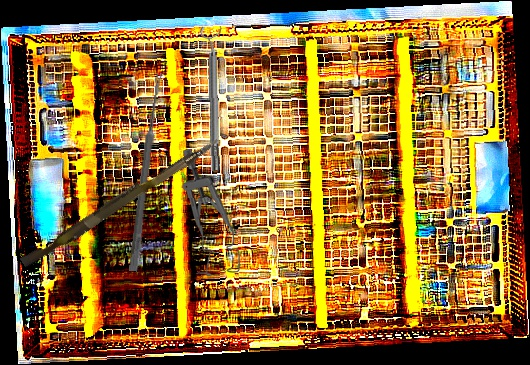Fixation Ring: (200, 26, 226, 171)
Pusher: (19, 130, 221, 273)
Speculum: (180, 147, 242, 277)
Surgical Spoon: (128, 72, 164, 272)
